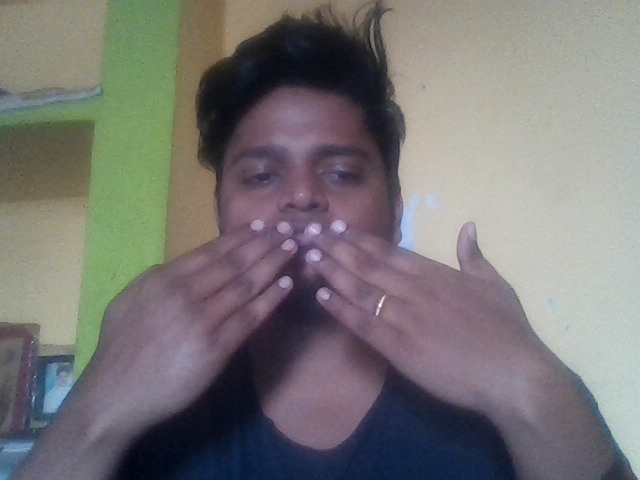thanks: (57, 182, 590, 438)
